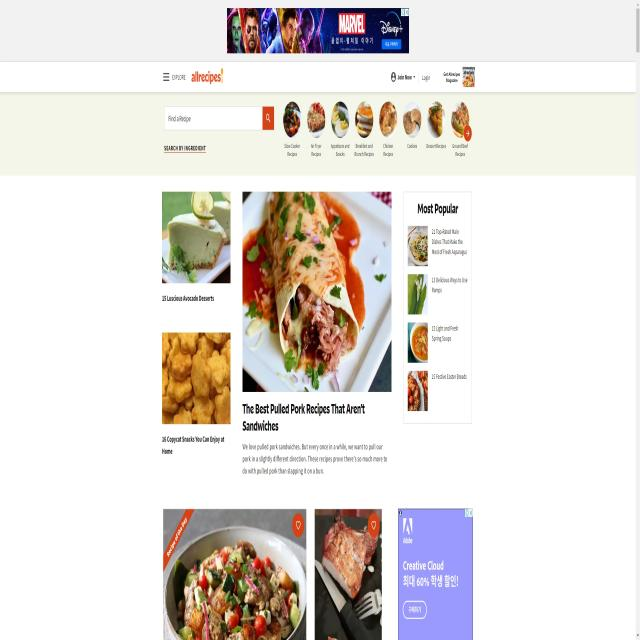search: (164, 102, 274, 134)
side-panel: (400, 186, 474, 432)
tab-bar: (280, 96, 482, 173)
